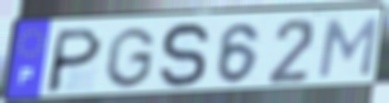2: (266, 16, 319, 87)
6: (216, 20, 265, 85)
G: (101, 25, 158, 90)
M: (314, 15, 381, 80)
P: (42, 25, 106, 96)
S: (157, 20, 213, 92)
